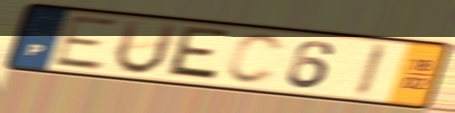6: (286, 39, 336, 90)
C: (223, 32, 287, 87)
E: (161, 24, 234, 84), (49, 13, 122, 72)
I: (351, 41, 392, 99)
U: (111, 18, 181, 77)
